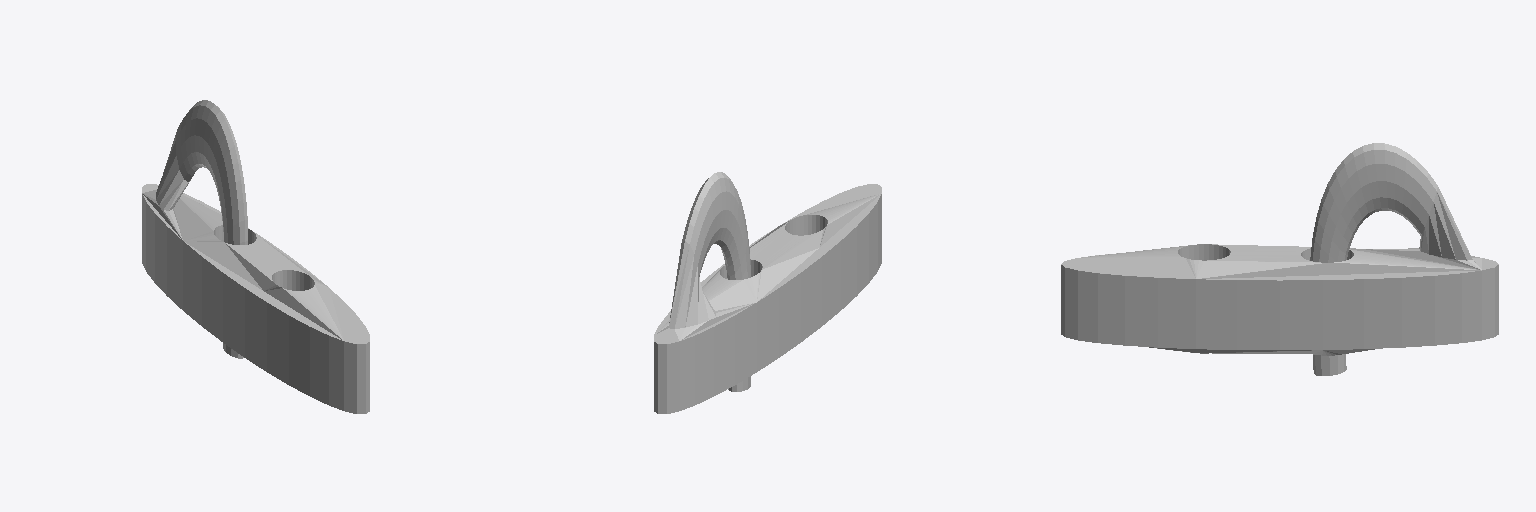
Rendered from deepCutHoleTest.obj.
3 renders of one model, left to right at view 1: azimuth 30°, elevation 25°; view 2: azimuth 150°, elevation 25°; view 3: azimuth 270°, elevation 25°, orthographic.
Bounding box in the file's own units: 2 × 6.62 × 11.36.